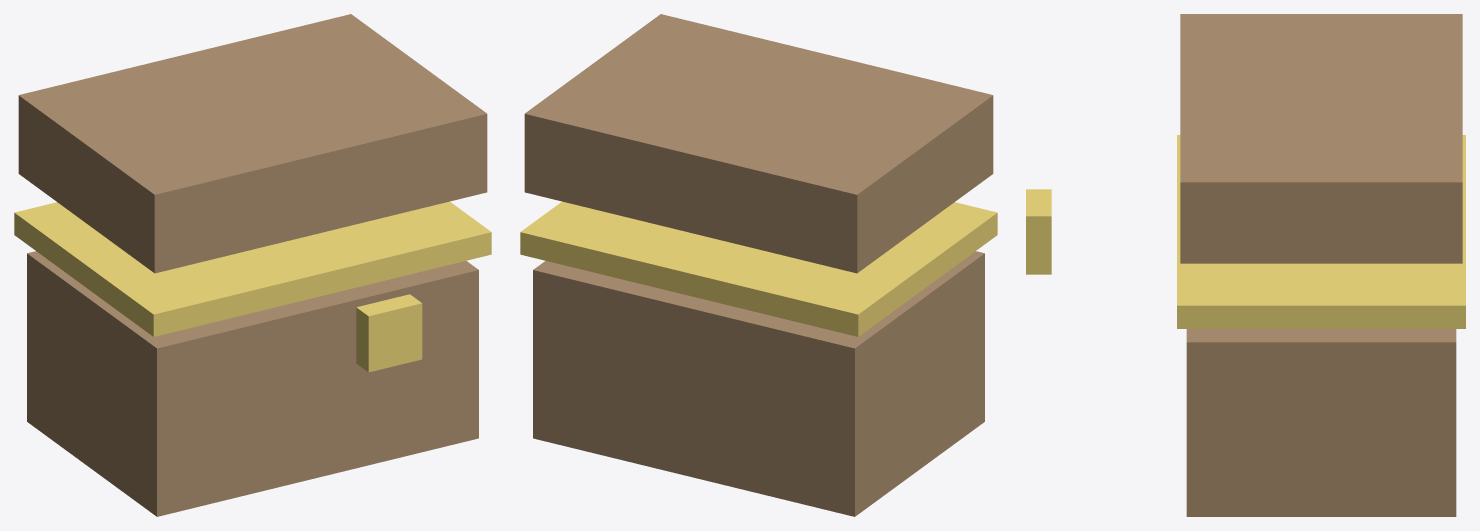
Rendered from chest.glb.
3 renders of one model, left to right at view 1: azimuth 30°, elevation 25°; view 2: azimuth 150°, elevation 25°; view 3: azimuth 270°, elevation 25°, orthographic. The views are drawn at different scales.
Parts seen in each view (by area): view 1: chest; view 2: chest; view 3: chest.
Boxes of the visible parts, bbox=[...] form: chest: bbox=[14, 14, 491, 516]; chest: bbox=[520, 14, 997, 516]; chest: bbox=[1026, 14, 1465, 516].
Bounding box in the file's own units: 0.9776 × 0.9 × 1.06.
